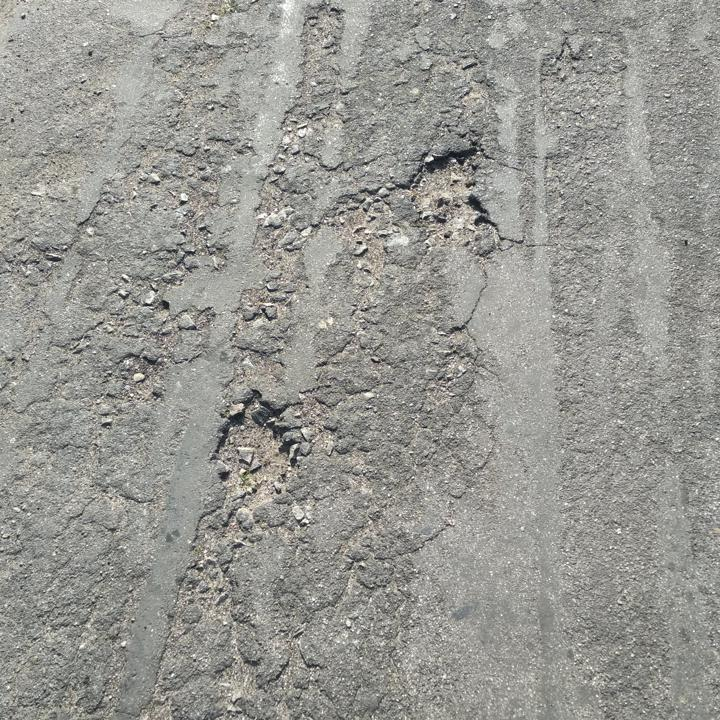pothole: (210, 387, 301, 507), (407, 140, 498, 251)
